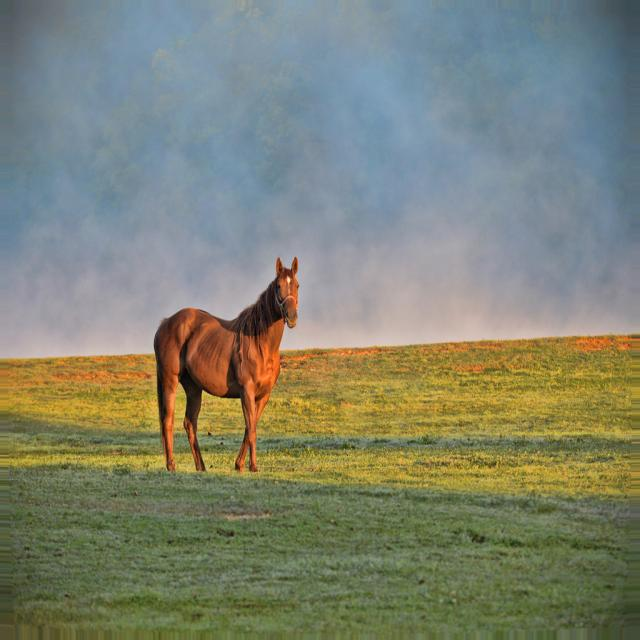Horse: (150, 254, 301, 478)
